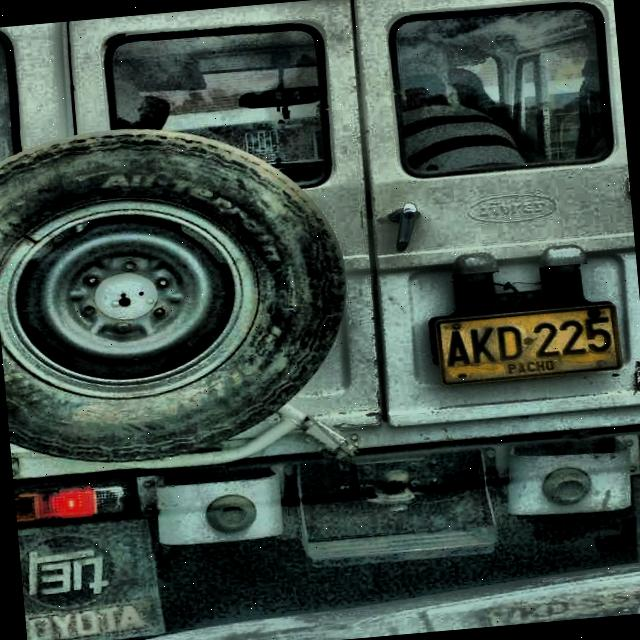plate: (436, 305, 619, 384)
